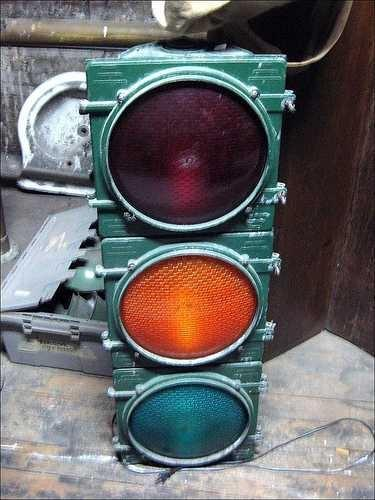red: (118, 370, 254, 466)
